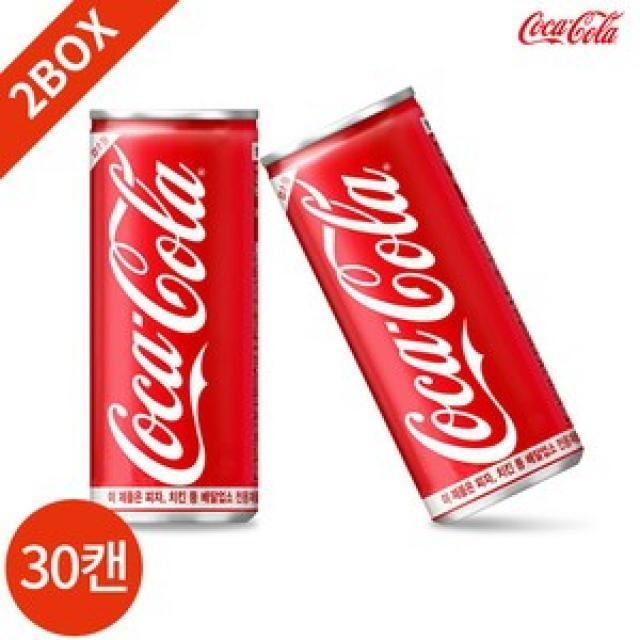coca-cola: (260, 80, 584, 526), (87, 101, 261, 533)
